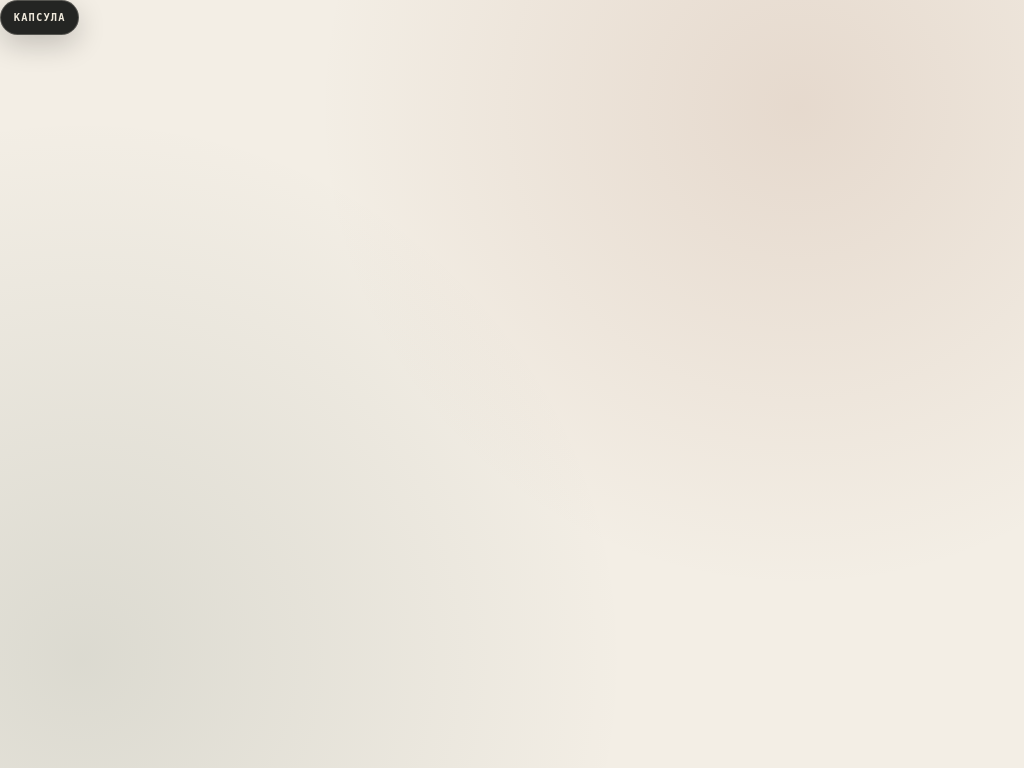
GuestMessageCapsuleDock › loads, edits, and saves one message up to 280 characters
Step 1. Click the button with aria-label "Открыть капсулу сообщений" → coordinates (40, 18), box x1=0 y1=0 x2=79 y2=35
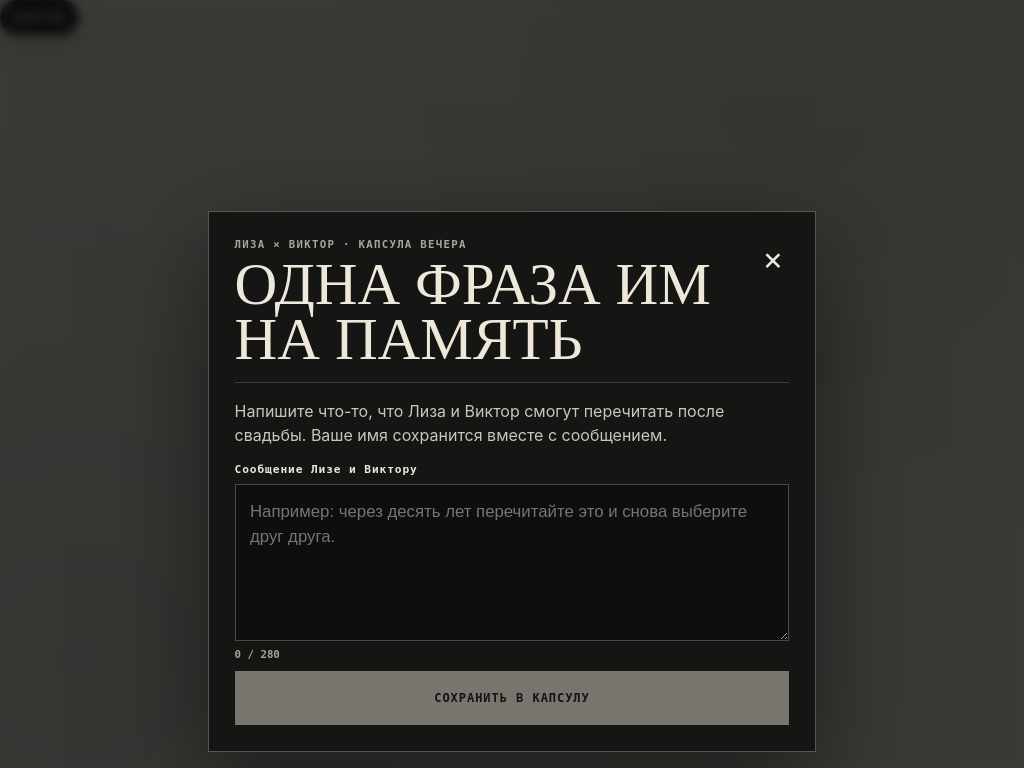
Step 2. Replace the text in the text box labelled "Сообщение Лизе и Виктору" with "Любви на всю жизнь!" → coordinates (512, 562), box x1=235 y1=484 x2=789 y2=640
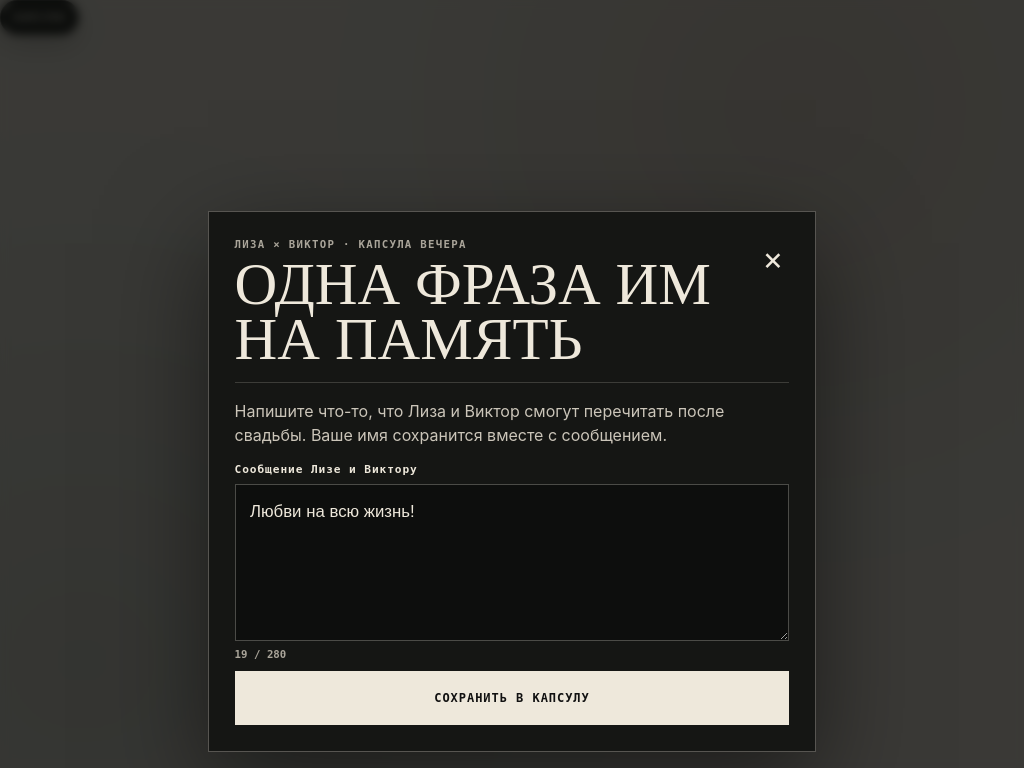
Step 3. Click the button "СОХРАНИТЬ В КАПСУЛУ" → coordinates (512, 698), box x1=235 y1=671 x2=789 y2=725
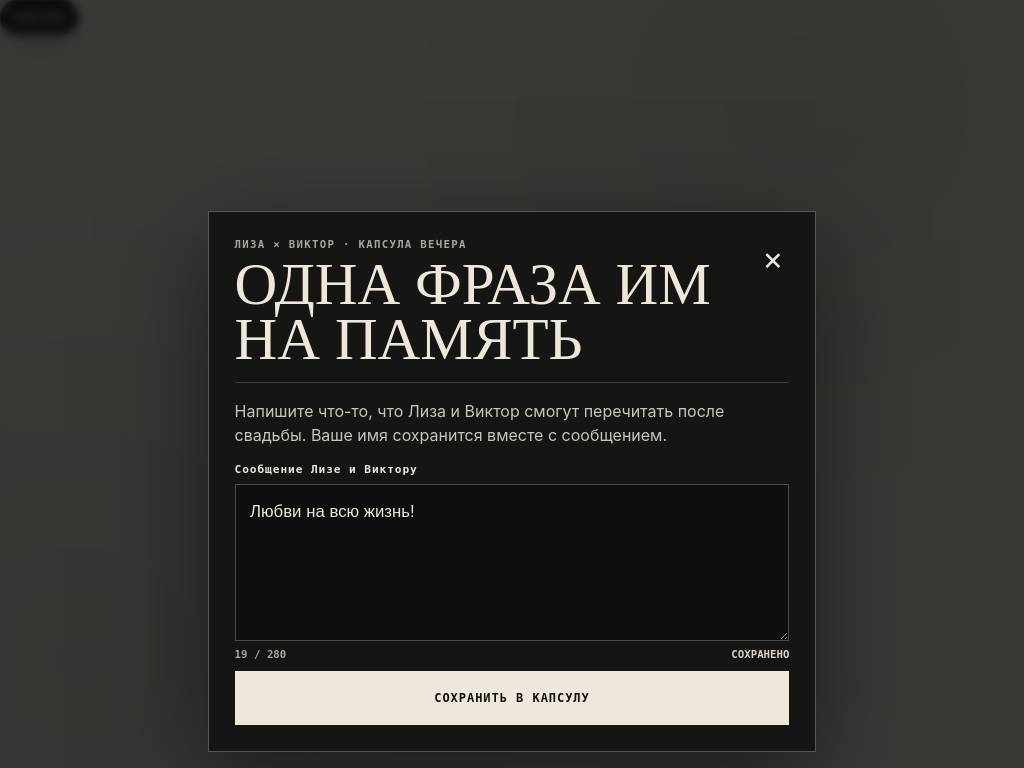
Now the text "СОХРАНЕНО" is shown, box x1=731 y1=649 x2=789 y2=662
